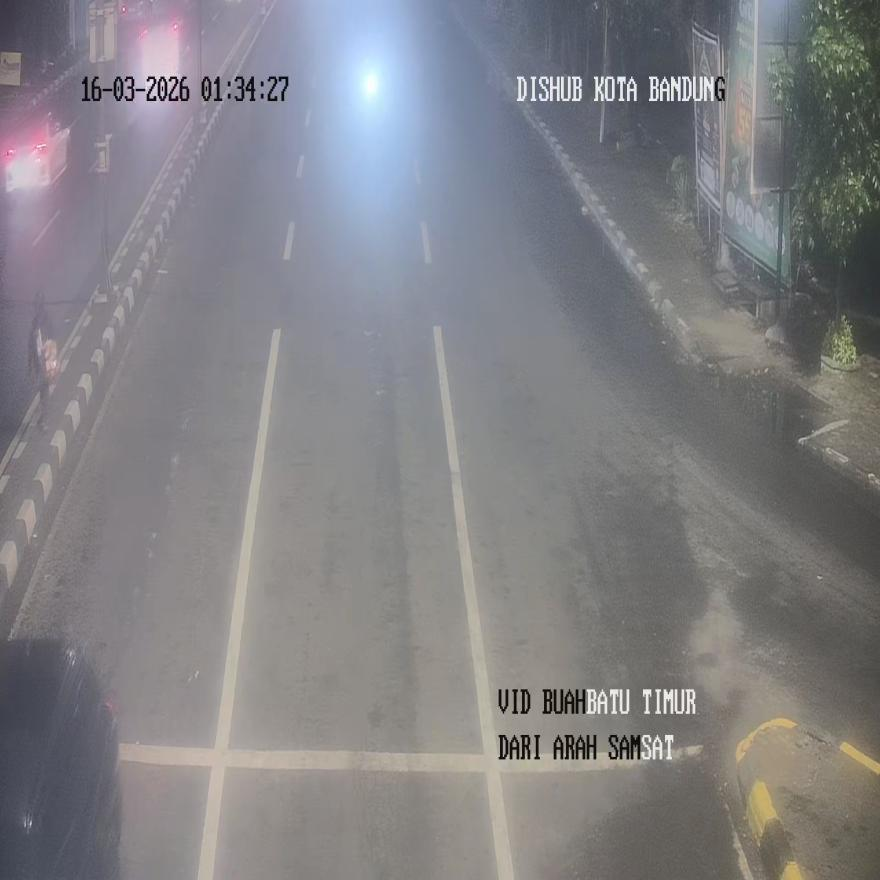Mobil: (0, 637, 123, 878)
